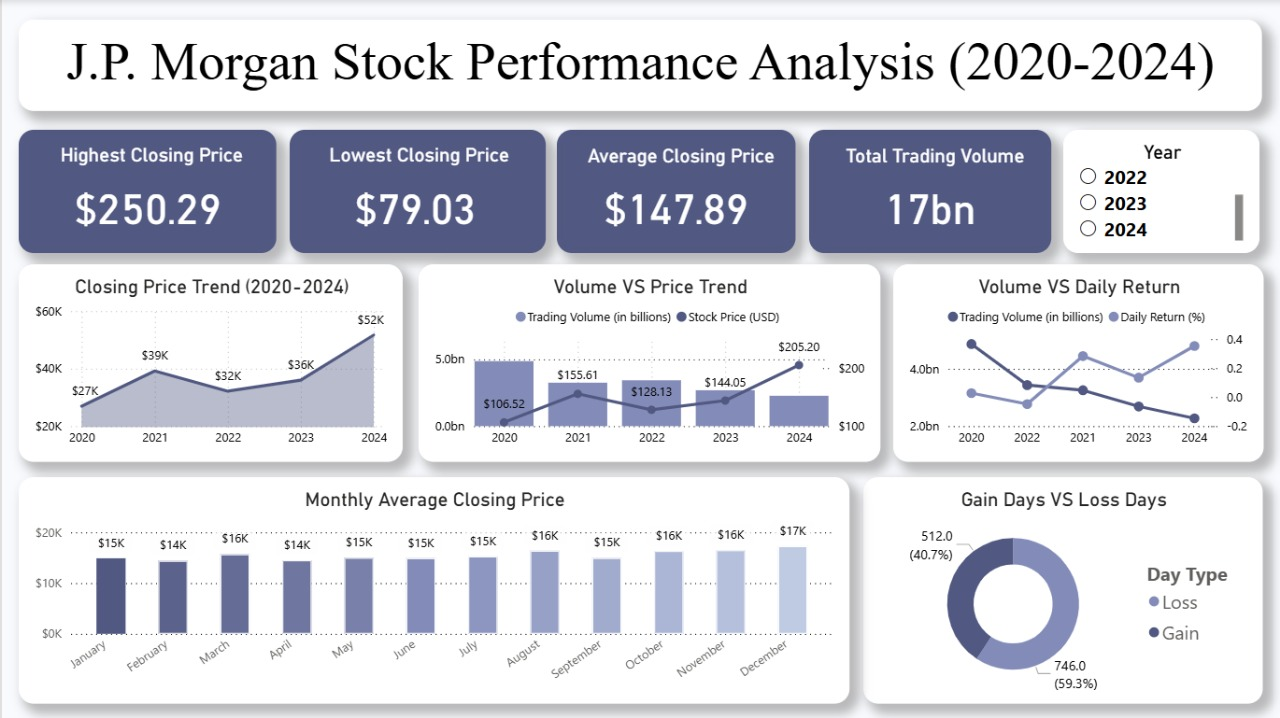

What the dashboard file says about the page in this screenshot:
{"tool":"powerbi","page":{"name":"Page 1","canvas":[1280,720],"ordinal":0},"visuals":[{"type":"card","title":"Highest Closing Price","fields":{"Values":["Max(Table 1 (JPM_Raw).close)"]},"box":[16.8,131,258.2,123.5],"z":0},{"type":"card","title":"Lowest Closing Price","fields":{"Values":["Min(Table 1 (JPM_Raw).close)"]},"box":[288.2,131,256.4,123.5],"z":1000},{"type":"card","title":"Average Closing Price","fields":{"Values":["Avg(Table 1 (JPM_Raw).close)"]},"box":[555.7,130.4,238.9,123.7],"z":2000},{"type":"card","title":"Total Trading Volume","fields":{"Values":["Sum(Table 1 (JPM_Raw).volume)"]},"box":[808.1,130.4,242.3,123.7],"z":3000},{"type":"textbox","box":[16.9,20.3,1245.2,91.5],"z":4000},{"type":"listSlicer","fields":{"Values":["Table 1 (JPM_Raw).Year"]},"box":[1062.9,131,196.5,123.5],"z":5000},{"type":"lineChart","title":"Closing Price Trend (2020-2024)","fields":{"Category":["Table 1 (JPM_Raw).date.Variation.Date Hierarchy.Year","Table 1 (JPM_Raw).date.Variation.Date Hierarchy.Quarter","Table 1 (JPM_Raw).date.Variation.Date Hierarchy.Month","Table 1 (JPM_Raw).date.Variation.Date Hierarchy.Day"],"Y":["Sum(Table 1 (JPM_Raw).close)"]},"box":[16.9,266,384.6,198.2],"z":6000},{"type":"lineClusteredColumnComboChart","title":"Volume VS Price Trend","fields":{"Category":["Table 1 (JPM_Raw).date.Variation.Date Hierarchy.Year"],"Y2":["Avg(Table 1 (JPM_Raw).Stock Price)"],"Y":["Sum(Table 1 (JPM_Raw).Trading Volume)"]},"box":[416.8,266,462.5,198.2],"z":7000},{"type":"lineChart","title":"Volume VS Daily Return","fields":{"Category":["Table 1 (JPM_Raw).Year"],"Y":["Sum(Table 1 (JPM_Raw).Trading Volume)"],"Y2":["Sum(Table 1 (JPM_Raw).Daily Return)"]},"box":[892,266,371,198.2],"z":8000},{"type":"donutChart","title":" Gain Days VS Loss Days","fields":{"Category":["Table 1 (JPM_Raw).Day Type"],"Y":["CountNonNull(Table 1 (JPM_Raw).Day Type)"]},"box":[862.3,479.4,399.8,227],"z":9000},{"type":"lineClusteredColumnComboChart","title":"Monthly Average Closing Price","fields":{"Y":["Sum(Table 1 (JPM_Raw).close)"],"Category":["Table 1 (JPM_Raw).date.Variation.Date Hierarchy.Month"]},"box":[16.9,479.4,831.8,227],"z":10000}]}

Visuals, with their boxes in screenshot pixels (x1, y1, x2, y2), scaled from the page's 1280x720 canvas onto the 1280x718 screenshot:
"Highest Closing Price" card: [17, 131, 275, 254]
"Lowest Closing Price" card: [288, 131, 545, 254]
"Average Closing Price" card: [556, 130, 795, 253]
"Total Trading Volume" card: [808, 130, 1050, 253]
textbox: [17, 20, 1262, 111]
listSlicer - Table 1 (JPM_Raw).Year: [1063, 131, 1259, 254]
"Closing Price Trend (2020-2024)" lineChart: [17, 265, 402, 463]
"Volume VS Price Trend" lineClusteredColumnComboChart: [417, 265, 879, 463]
"Volume VS Daily Return" lineChart: [892, 265, 1263, 463]
" Gain Days VS Loss Days" donutChart: [862, 478, 1262, 704]
"Monthly Average Closing Price" lineClusteredColumnComboChart: [17, 478, 849, 704]
